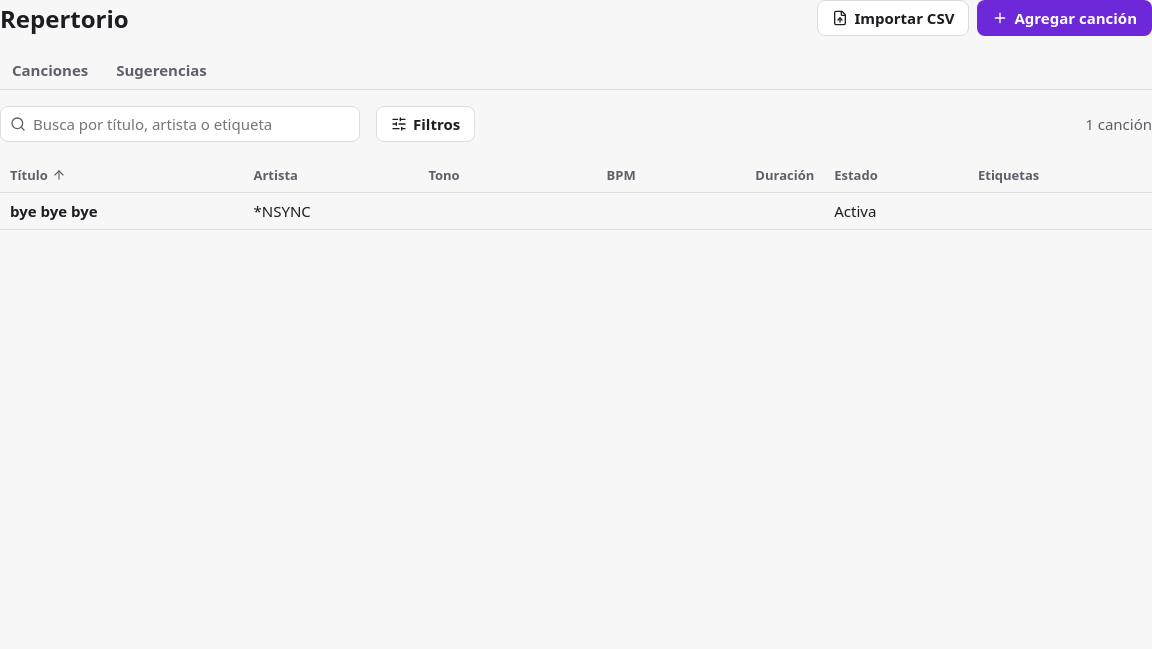
Add song from the catalog › marks matches already in the library
Click the button "Agregar canción" at (1065, 18), box [978, 0, 1151, 36]
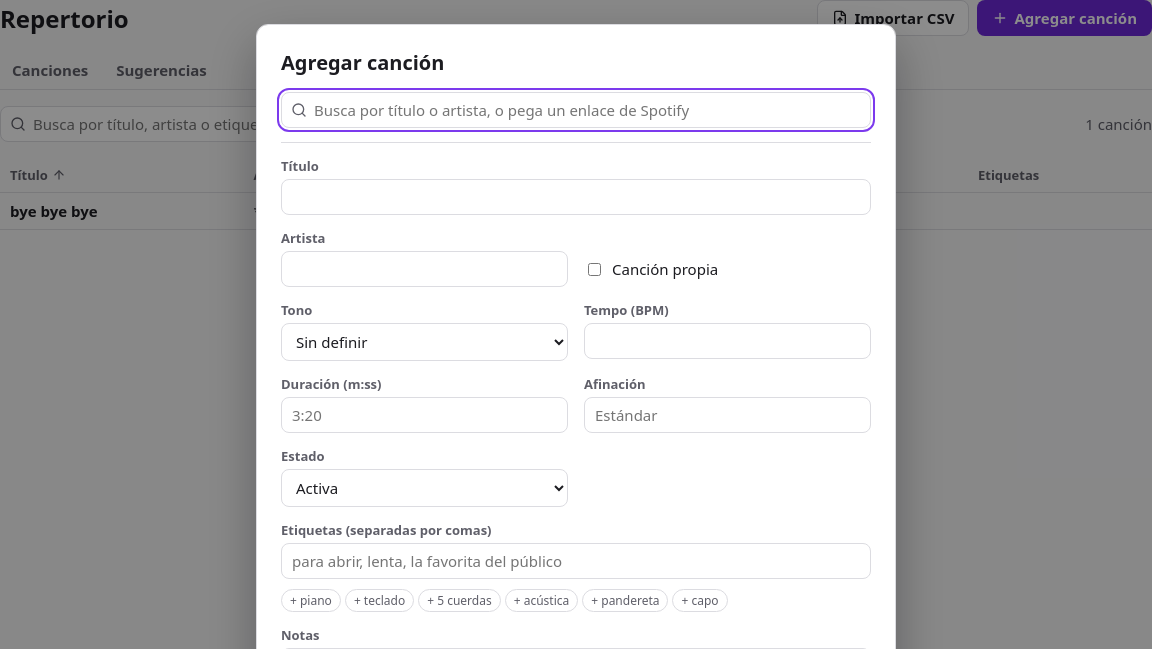
Type "bye" into the search field named "Buscar una canción" at (576, 110), box [281, 92, 871, 128]
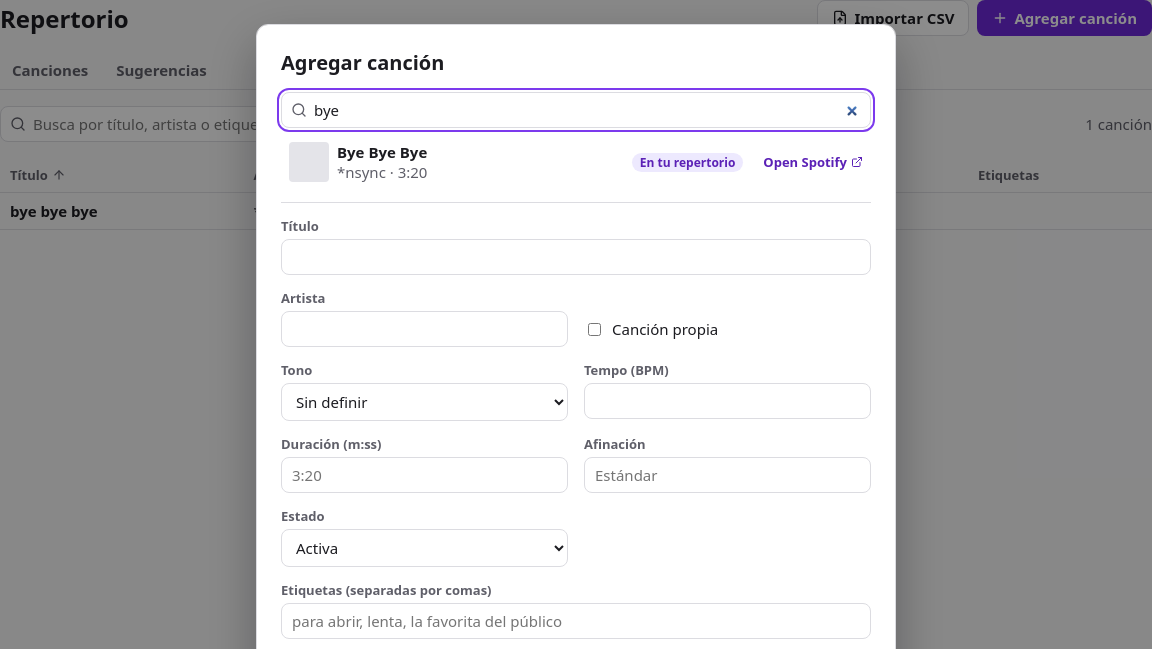
Now the text "En tu repertorio" is shown, box [632, 152, 743, 172]
